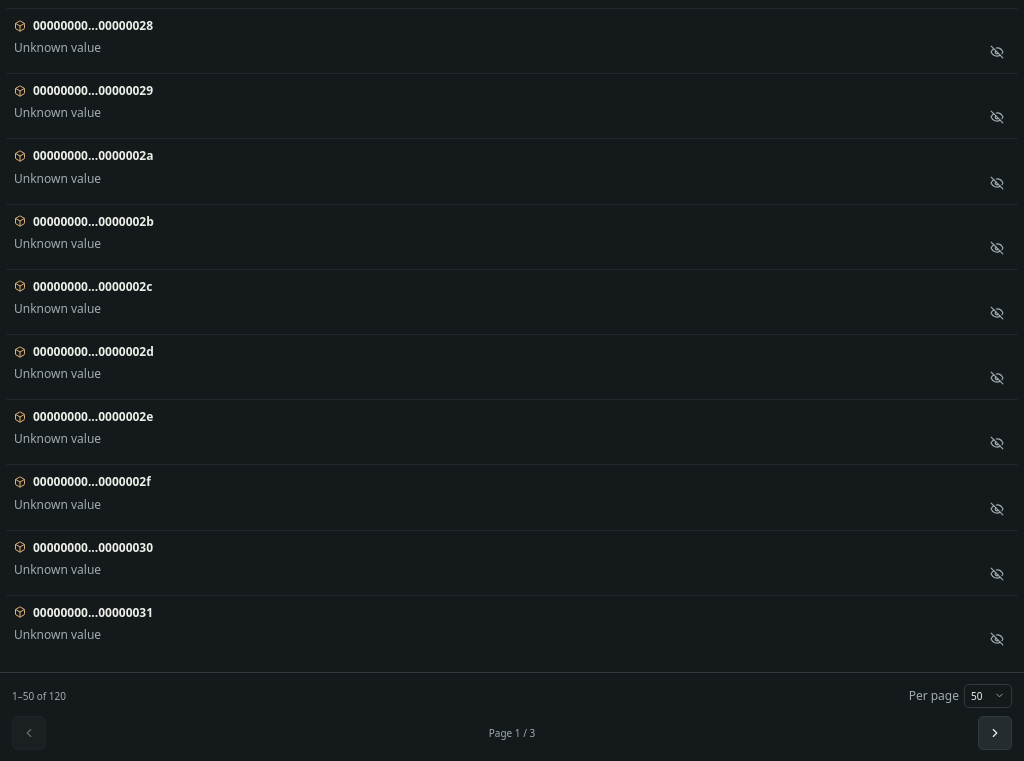
EntityBrowser paging › stays on the page while nothing it depends on changes
(page scrolled)
What coordinates should you click on to do the following:
click the button named "Next entity page"
I would click on:
 (995, 733)
Its box is [978,716,1012,750].
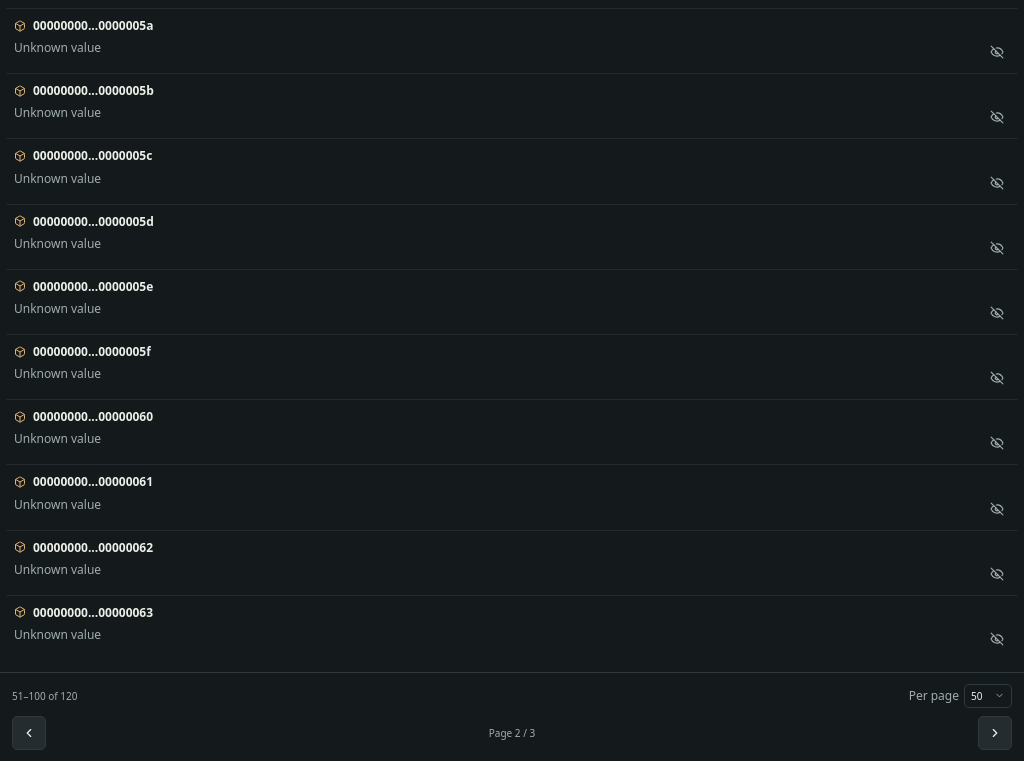
What coordinates should you click on to do the following:
click the button named "Next entity page"
I would click on:
 (995, 733)
Its box is [978,716,1012,750].
(page scrolled)
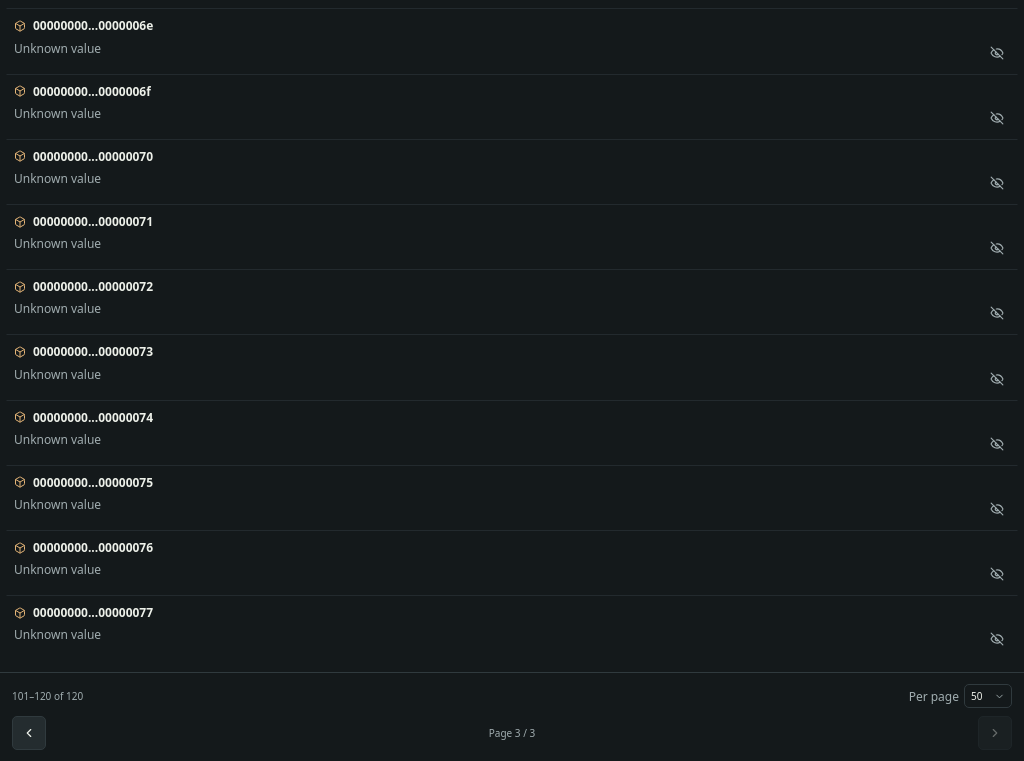
Expected: the text "Page 3 / 3" is shown, [489,725,535,741]
